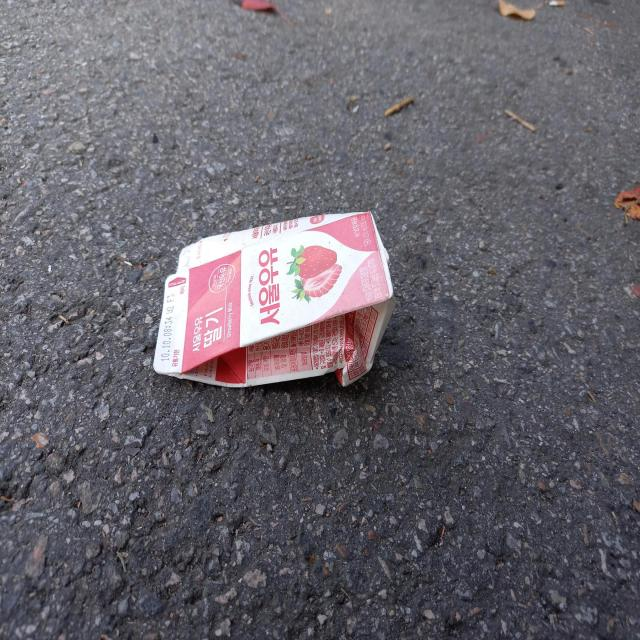paperpack: (154, 211, 395, 386)
